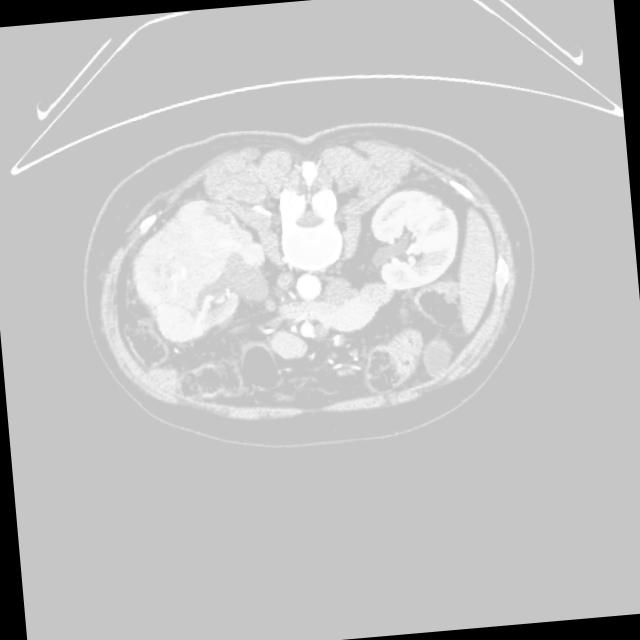TUMOR: (128, 189, 514, 370)
